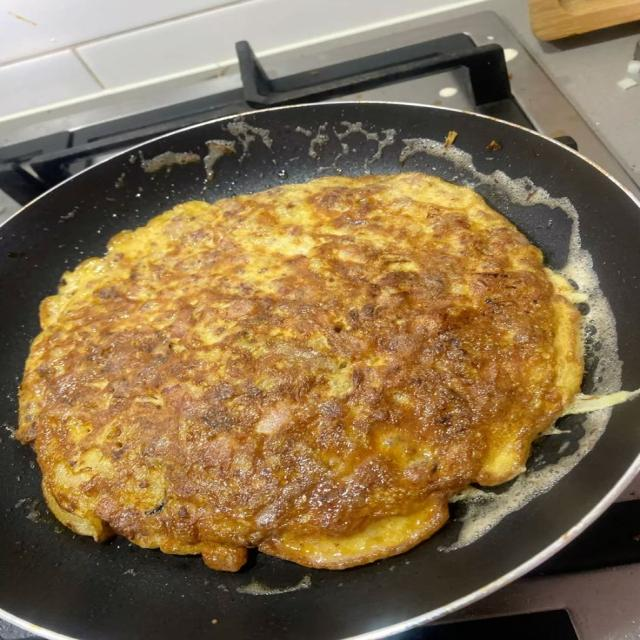omelette: (18, 173, 582, 570)
